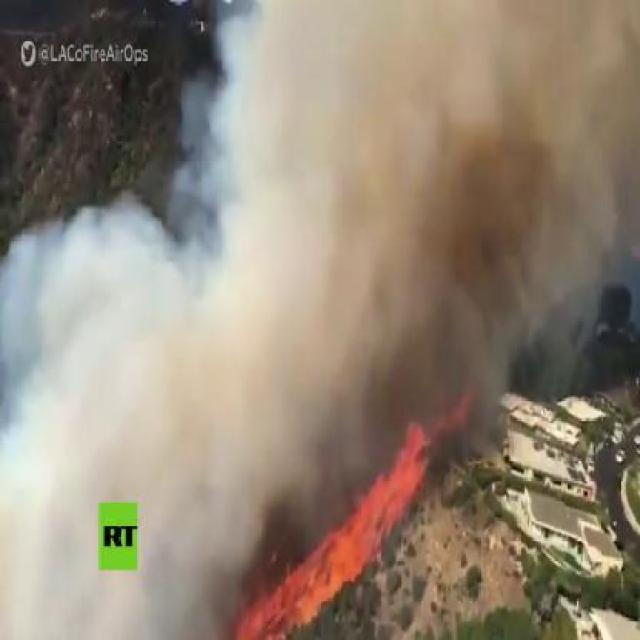Fire: (246, 430, 428, 638)
